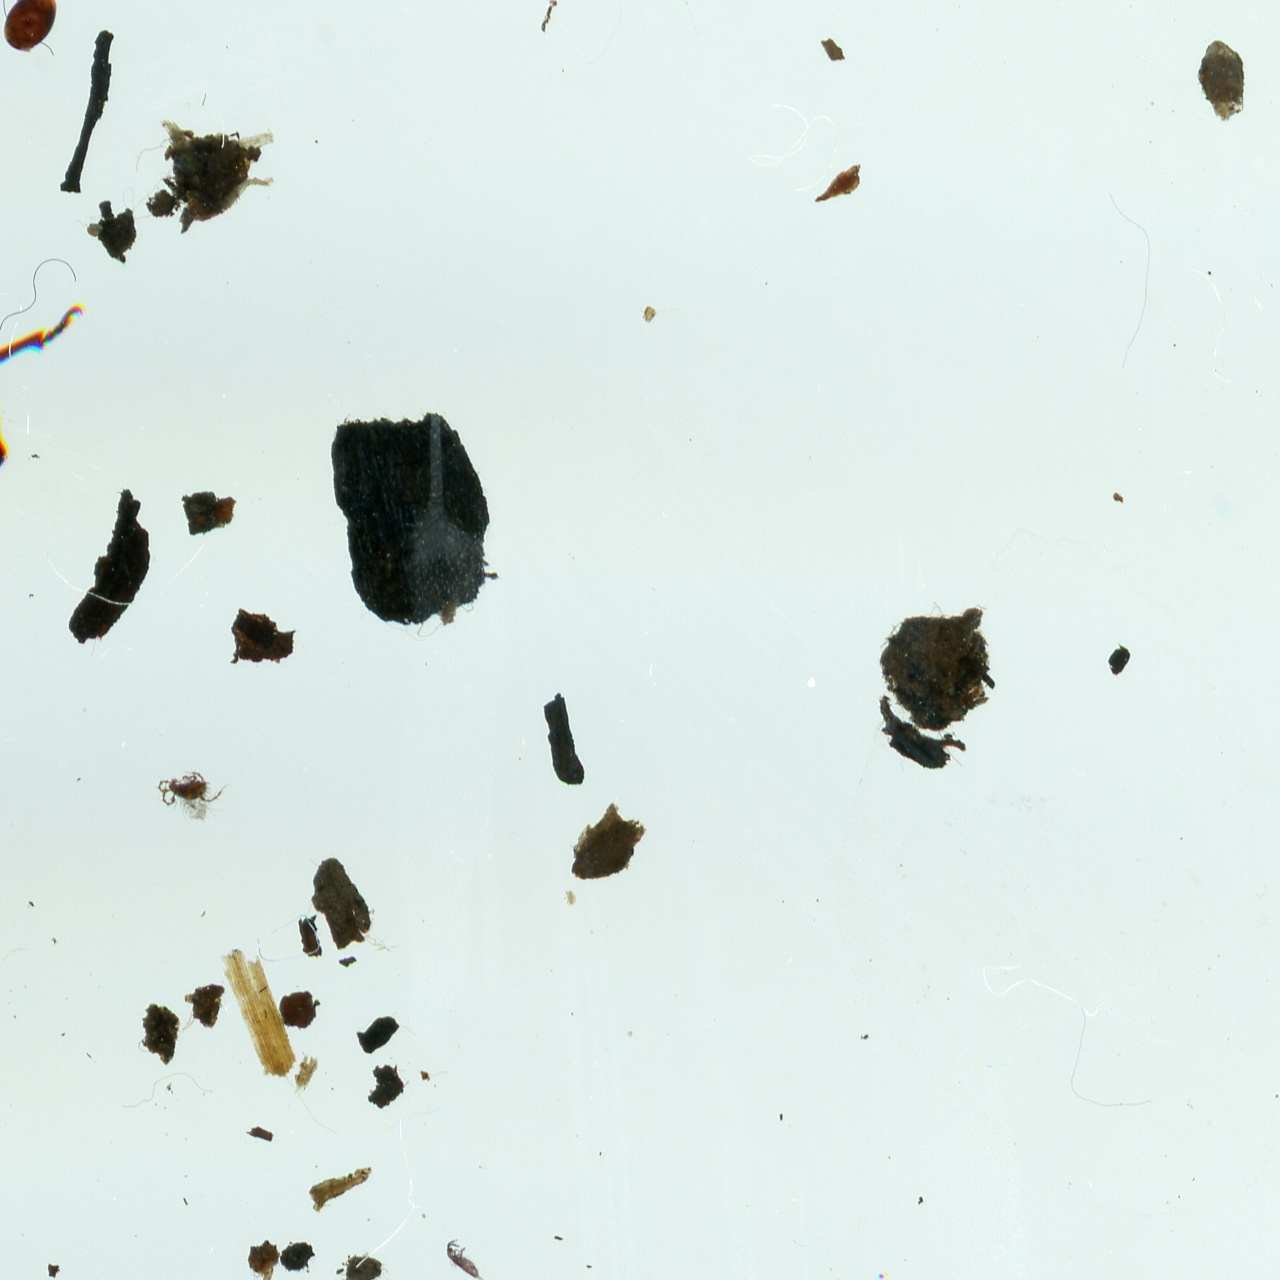arthropod: (152, 767, 230, 825), (434, 1232, 506, 1280), (3, 0, 57, 52)
